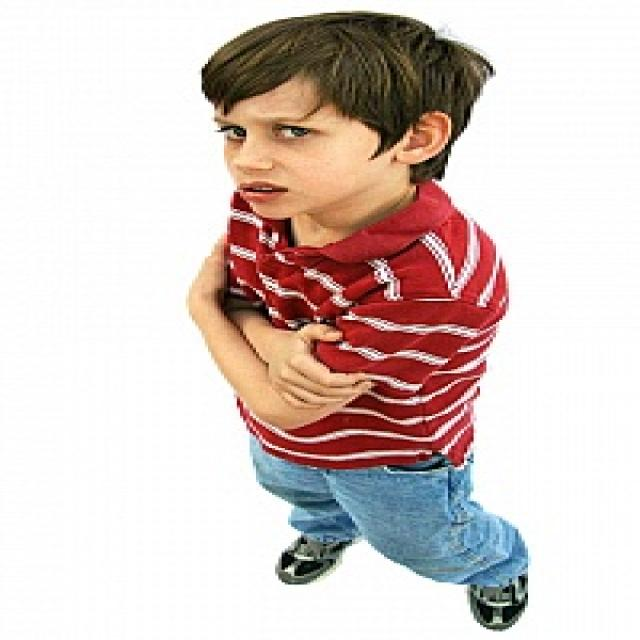Eyes: (220, 117, 338, 158)
